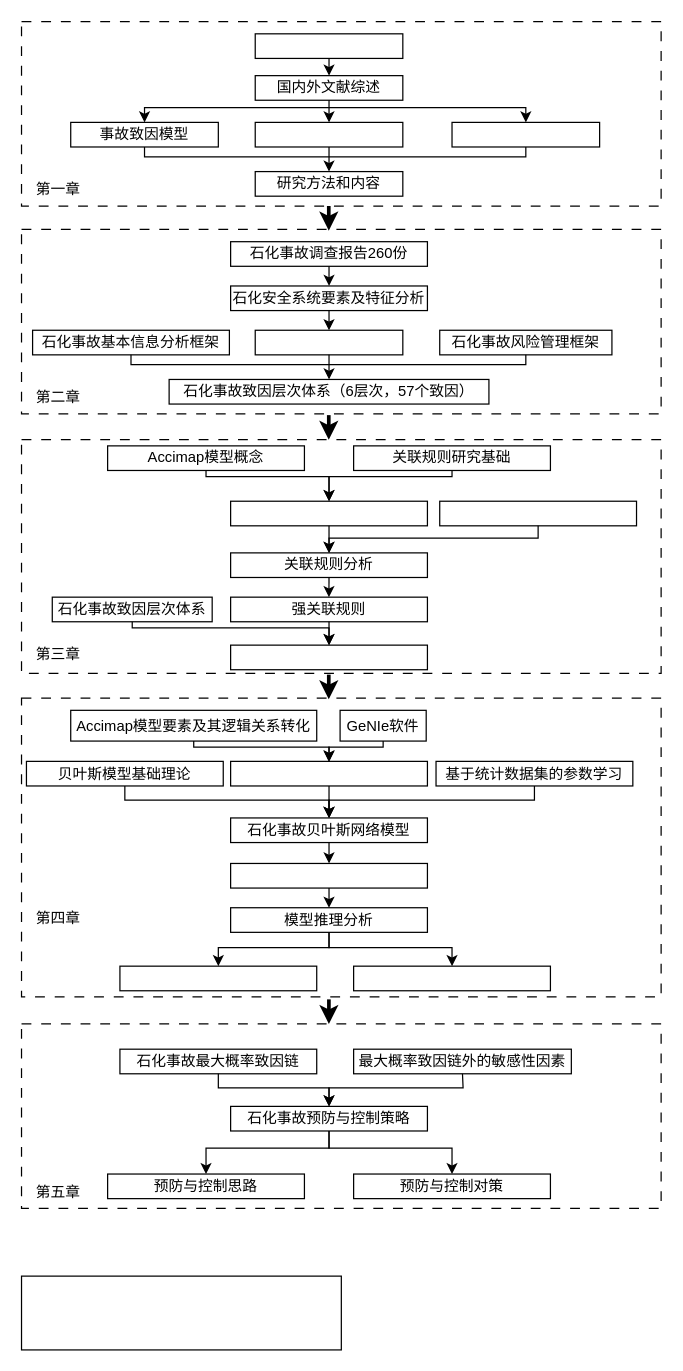
Image size: 683x1371. Some labels were removed from this diagram. Here are the shapes that lost their labels. From the top down, the centre of each, then its label:
At point 328,45: "研究背景及意义".
At point 328,134: "事故风险分析".
At point 525,134: "石化安全管理".
At point 328,342: "规范与条例".
At point 328,513: "事故致因统计数据集".
At point 537,513: "SPSS Modeler软件".
At point 328,657: "石化事故Accimap模型".
At point 328,773: "BN 网络结构学习".
At point 328,875: "模型验证".
At point 218,978: "逆向诊断分析".
At point 451,978: "敏感性分析".
At point 180,1312: "步骤1：AcciMap分析程序".
